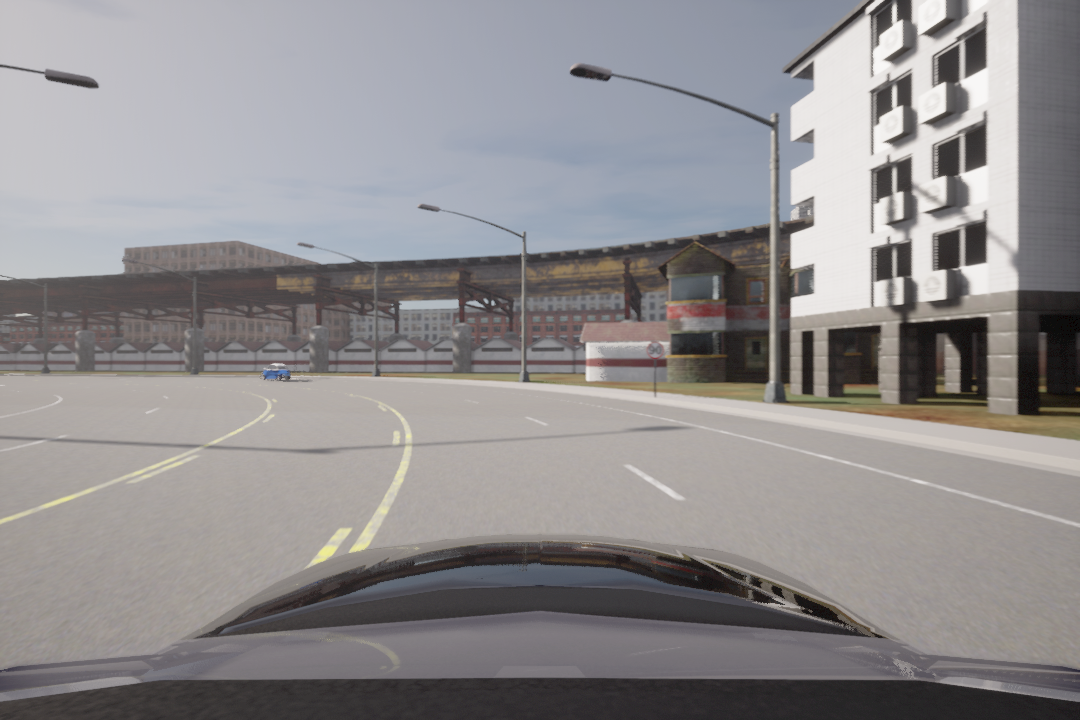TrafficSign_speed: (644, 340, 664, 360)
